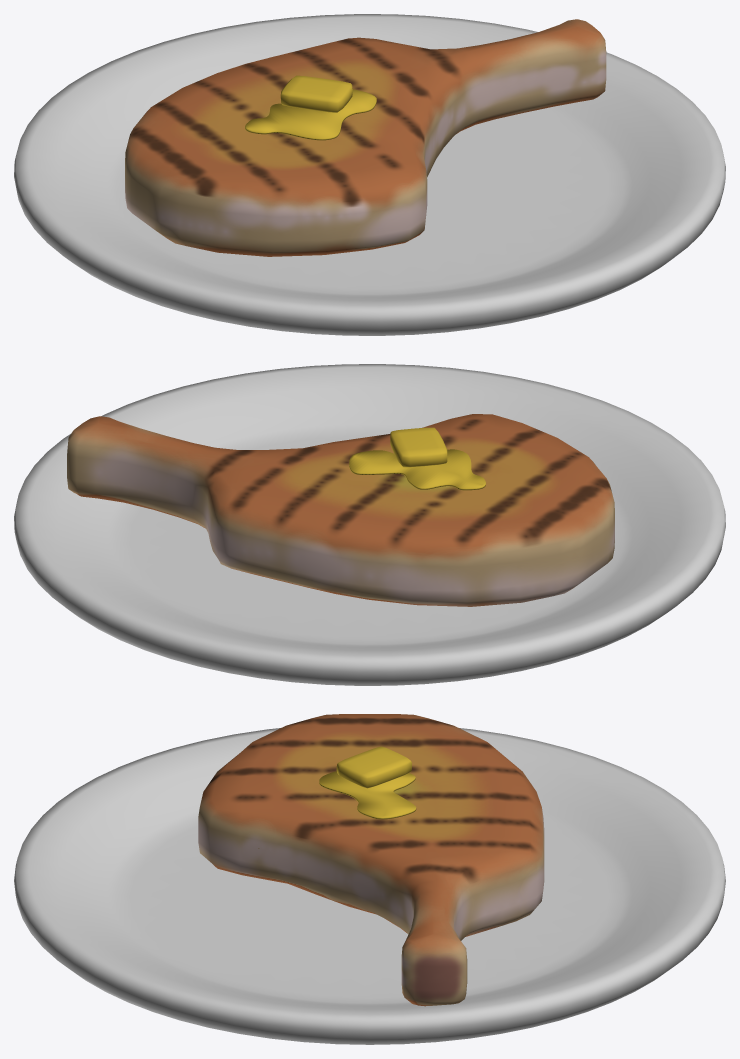
File: PorkChop.fbx
3 views of the same model, one above another, from view 1: azimuth 30°, elevation 25°; view 2: azimuth 150°, elevation 25°; view 3: azimuth 270°, elevation 25° (orthographic).
Parts seen in each view (by area): view 1: Plate, PorkChop, ButterMelt, Butter; view 2: Plate, PorkChop, ButterMelt, Butter; view 3: Plate, PorkChop, ButterMelt, Butter.
Boxes of the visible parts, box(x1,y1,x2,y2) form: Plate: box(14, 14, 725, 335); PorkChop: box(125, 19, 606, 256); ButterMelt: box(245, 89, 376, 140); Butter: box(280, 75, 352, 112); Plate: box(14, 364, 725, 685); PorkChop: box(67, 414, 614, 606); ButterMelt: box(349, 449, 485, 490); Butter: box(390, 427, 447, 467); Plate: box(14, 728, 725, 1044); PorkChop: box(198, 714, 544, 1006); ButterMelt: box(319, 771, 416, 819); Butter: box(336, 746, 411, 788).
Size of the model in its own units: 66.8 by 15.32 by 66.8.
Materials: 4 (4 with a texture image).
